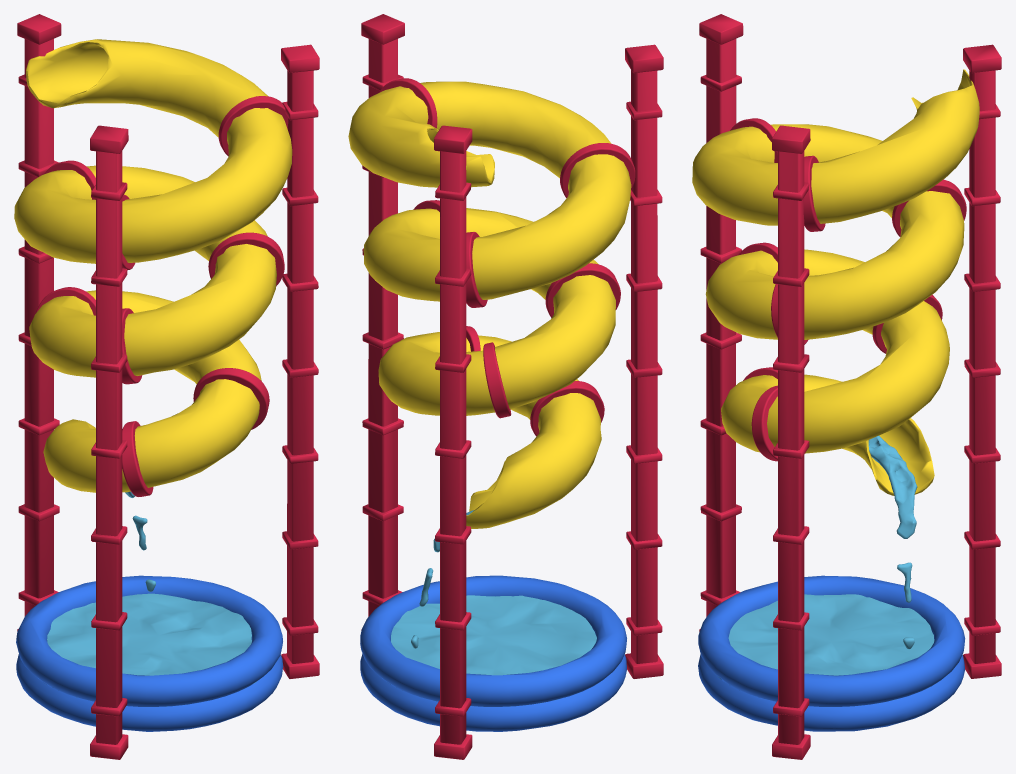
File: sf_slide_tower.glb
3 renders of one model, left to right at view 1: azimuth 30°, elevation 25°; view 2: azimuth 150°, elevation 25°; view 3: azimuth 270°, elevation 25°, orthographic.
Parts seen in each view (by area): view 1: Object_11, Object_14, Object_23, Object_20, Object_17; view 2: Object_11, Object_14, Object_23, Object_20, Object_17; view 3: Object_11, Object_14, Object_23, Object_20, Object_17, Object_8.
Part boxes in pixels (x1,y1,x2,y2): Object_11: (14, 39, 292, 492); Object_14: (17, 14, 319, 759); Object_23: (16, 575, 283, 731); Object_20: (46, 593, 256, 706); Object_17: (36, 96, 288, 496); Object_11: (348, 81, 631, 529); Object_14: (361, 14, 663, 759); Object_23: (360, 575, 626, 731); Object_20: (390, 595, 596, 706); Object_17: (378, 78, 635, 436); Object_11: (692, 69, 979, 495); Object_14: (699, 14, 1001, 759); Object_23: (698, 575, 965, 731); Object_20: (717, 594, 934, 705); Object_17: (730, 118, 966, 461); Object_8: (868, 435, 917, 649).
Bounding box in the file's own units: 210 × 468 × 212.
